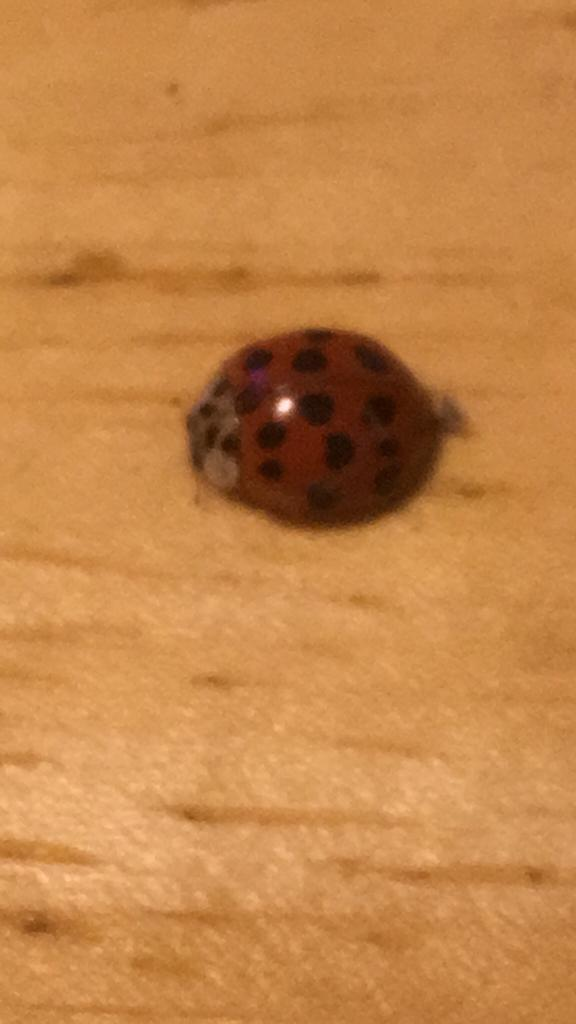ladybug: (171, 324, 466, 534)
